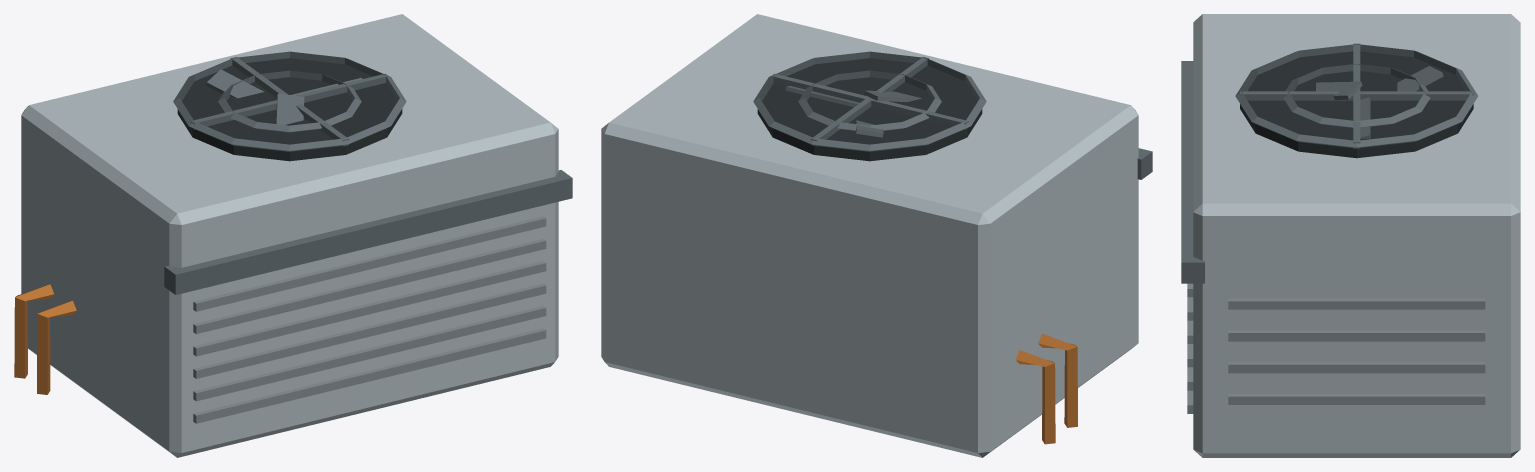
Rendered from acUnit.glb.
3 renders of one model, left to right at view 1: azimuth 30°, elevation 25°; view 2: azimuth 150°, elevation 25°; view 3: azimuth 270°, elevation 25°, orthographic. The views are drawn at different scales.
Visible parts, largest first — view 1: acUnit-m; view 2: acUnit-m; view 3: acUnit-m.
Boxes of the visible parts, bbox=[...] form: acUnit-m: bbox=[14, 14, 572, 457]; acUnit-m: bbox=[601, 14, 1152, 457]; acUnit-m: bbox=[1181, 14, 1520, 457].
Size of the model in its own units: 2.21 by 1.3 by 1.45.
